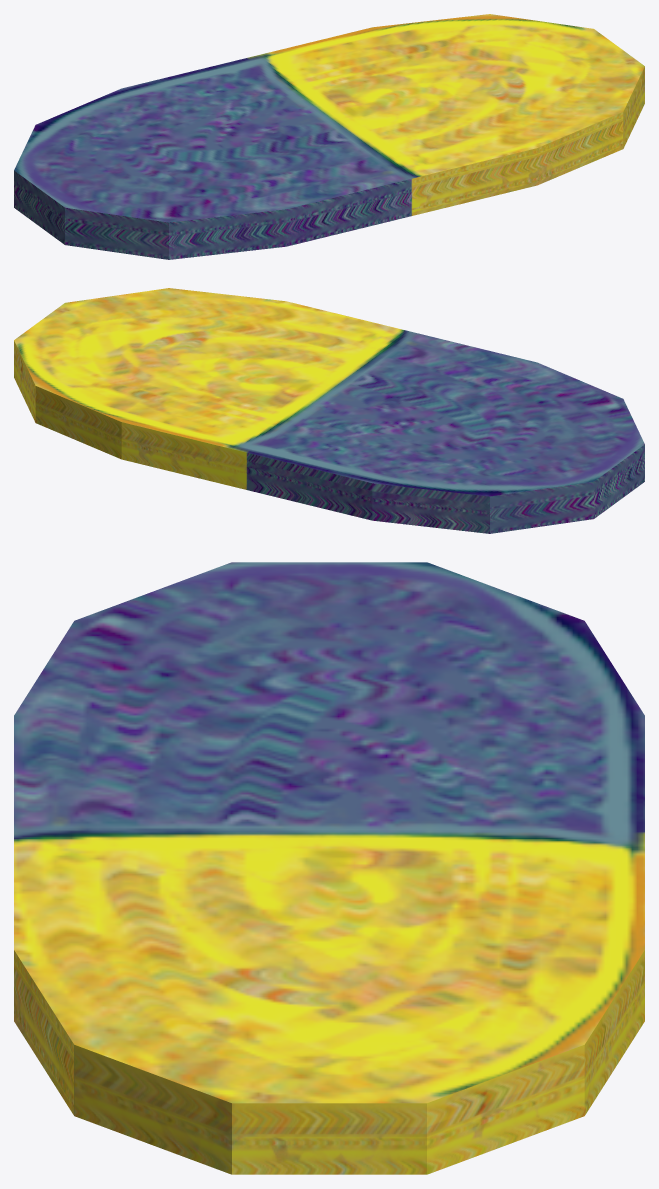
The model's file is SM_Long_Pill.fbx.
The picture shows the model from 3 angles, top to bottom: view 1: azimuth 30°, elevation 25°; view 2: azimuth 150°, elevation 25°; view 3: azimuth 270°, elevation 25°; orthographic projection. The views are drawn at different scales.
Parts seen in each view (by area): view 1: SM_Long_Pill; view 2: SM_Long_Pill; view 3: SM_Long_Pill.
Boxes of the visible parts, x1=… form: SM_Long_Pill: x1=14, y1=14, x2=644, y2=259; SM_Long_Pill: x1=14, y1=288, x2=644, y2=533; SM_Long_Pill: x1=14, y1=562, x2=644, y2=1174.
Bounding box in the file's own units: 0.3117 × 0.0192 × 0.1536.
